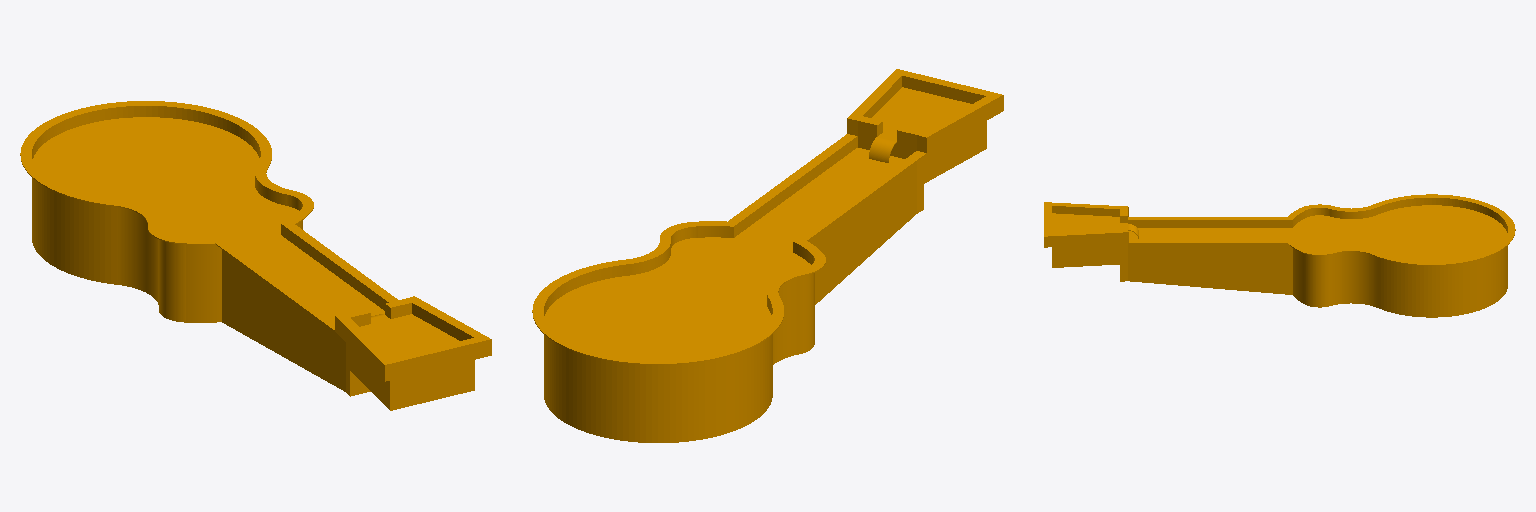
robot.urdf — 576ee680a8aa61fbd4c2efa838ad32da:
<?xml version="1.0" ?>
<robot name="576ee680a8aa61fbd4c2efa838ad32da">

  <link name="base">

    <inertial>
      <mass value="1"/>
      <inertia ixx="1" ixy="0" ixz="0" iyy="1" iyz="0" izz="1"/>
    </inertial>

    <visual>
      <origin rpy="3.14159 0 0" xyz="0 0 0.1"/>
      <geometry>
        <mesh filename ="models/model_normalized.obj" scale="1 1 1"/>
      </geometry>
    </visual>

    <collision>
      <origin rpy="3.14159 0 0" xyz="0 0 0.1"/>
      <geometry>
        <mesh filename ="models/model_normalized.obj" scale="1 1 1"/>
      </geometry>
    </collision>

  </link>
  
</robot>

--- Render facts (derived) ---
3 views of the same robot in one strip: view 1: azimuth 30°, elevation 25°; view 2: azimuth 150°, elevation 25°; view 3: azimuth 270°, elevation 25° (orthographic).
Robot: 576ee680a8aa61fbd4c2efa838ad32da — 1 links, 0 joints (none); root link base; default pose: every joint at zero.
Visible links, largest first — view 1: base; view 2: base; view 3: base.
Boxes of the visible links, left/top/right/bottom form: base: left=20, top=101, right=491, bottom=410; base: left=532, top=69, right=1003, bottom=442; base: left=1044, top=194, right=1515, bottom=317.
Size in the robot's own frame: 0.3309 by 0.9326 by 0.1444 metres.
Meshes: 1 distinct files referenced, 1 mesh visuals loaded (1 OBJ).